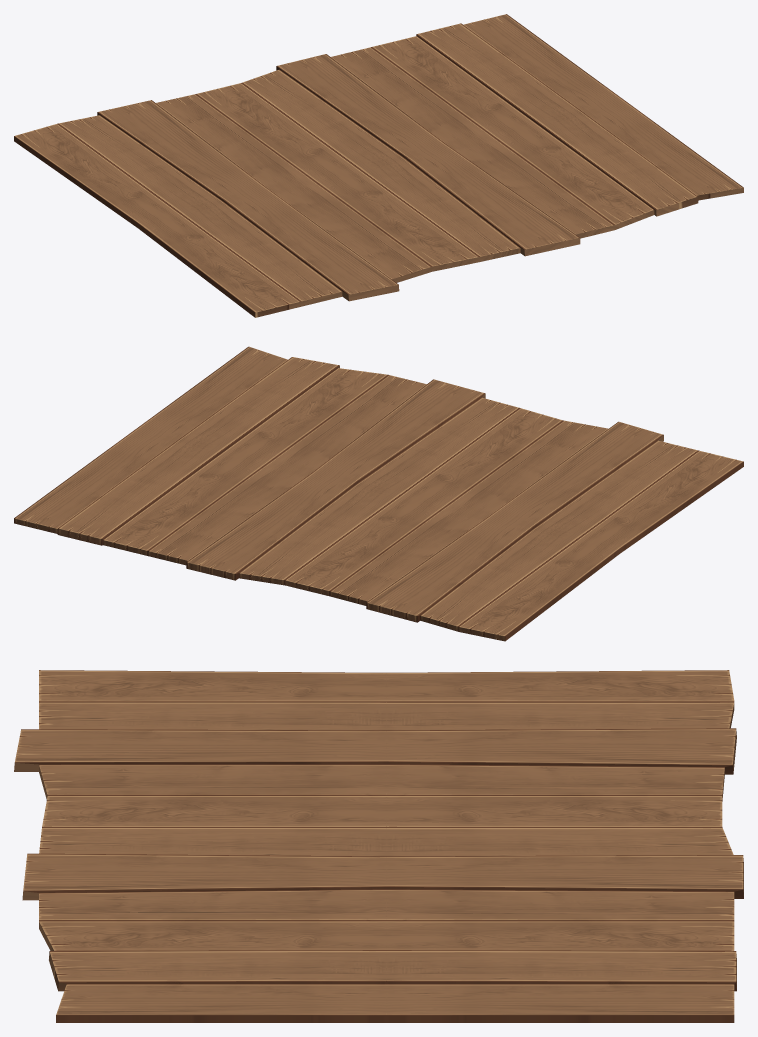
File: bg_beranda.FBX
3 renders of one model, top to bottom at view 1: azimuth 30°, elevation 25°; view 2: azimuth 150°, elevation 25°; view 3: azimuth 270°, elevation 25°, orthographic. The views are drawn at different scales.
Visible parts, largest first — view 1: bg_wood_beranda; view 2: bg_wood_beranda; view 3: bg_wood_beranda.
Boxes of the visible parts, x1=… form: bg_wood_beranda: x1=14, y1=14, x2=743, y2=317; bg_wood_beranda: x1=14, y1=346, x2=743, y2=641; bg_wood_beranda: x1=14, y1=670, x2=743, y2=1022.
Bounding box in the file's own units: 59.33 × 0.7986 × 53.02.
